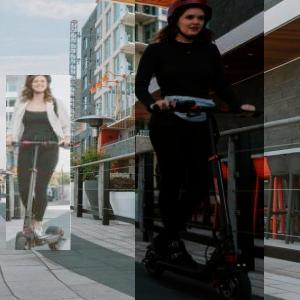with scooter: (135, 0, 264, 300), (6, 75, 72, 250)
